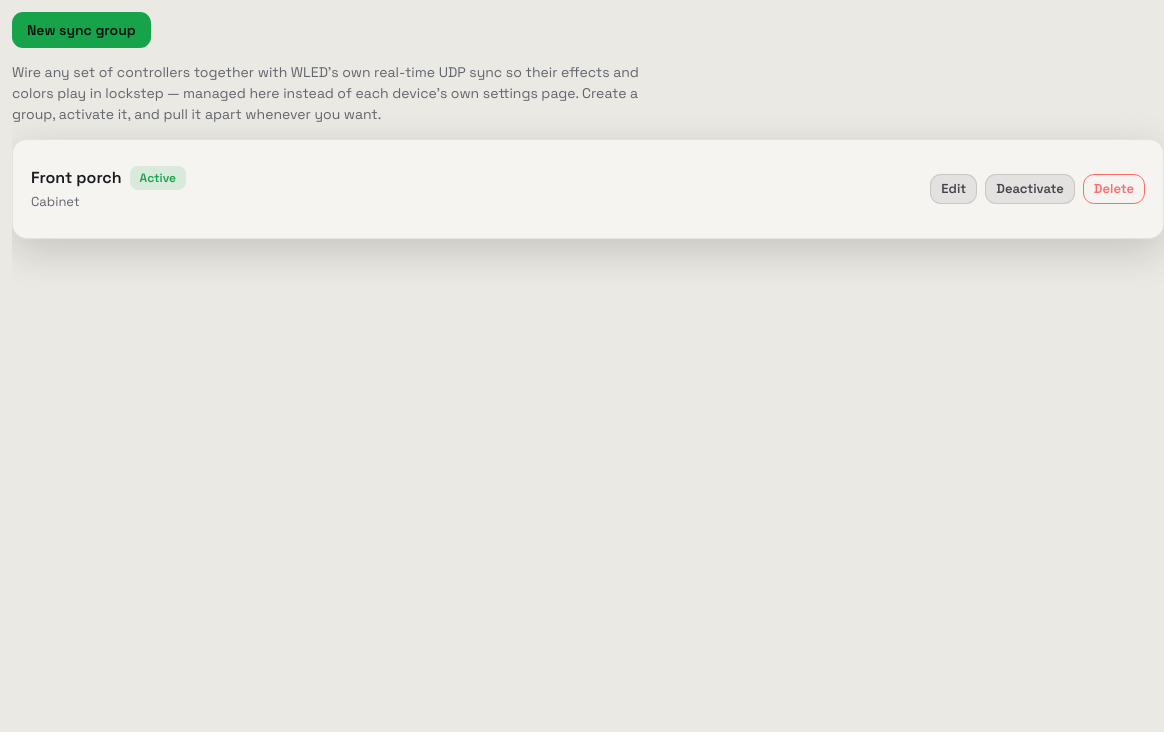
Scenario: SyncSection › deactivates a group and shows it as Inactive again
The width and height of the screenshot is (1164, 732).
Expected: the text "Front porch" is shown, [31,166,122,190]
Click the button with aria-label "Deactivate Front porch" at (1030, 189), box [985,174,1075,204]
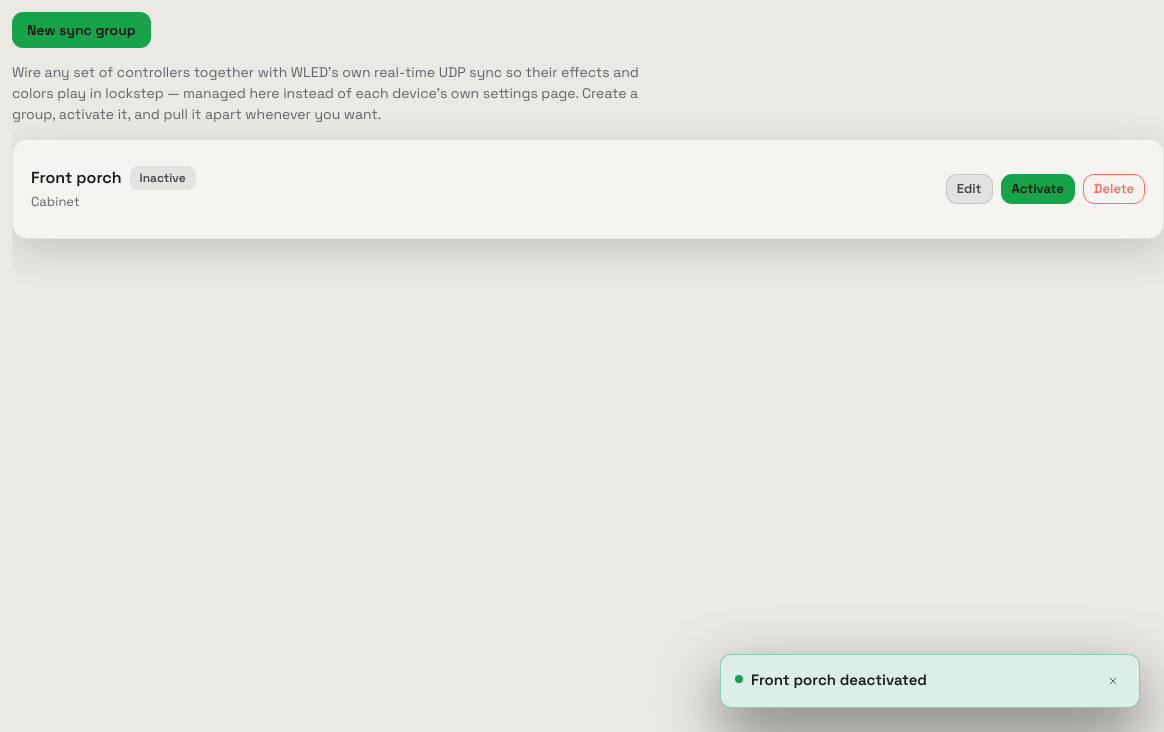
Result: the text "Inactive" is shown at [130,166,196,190]
